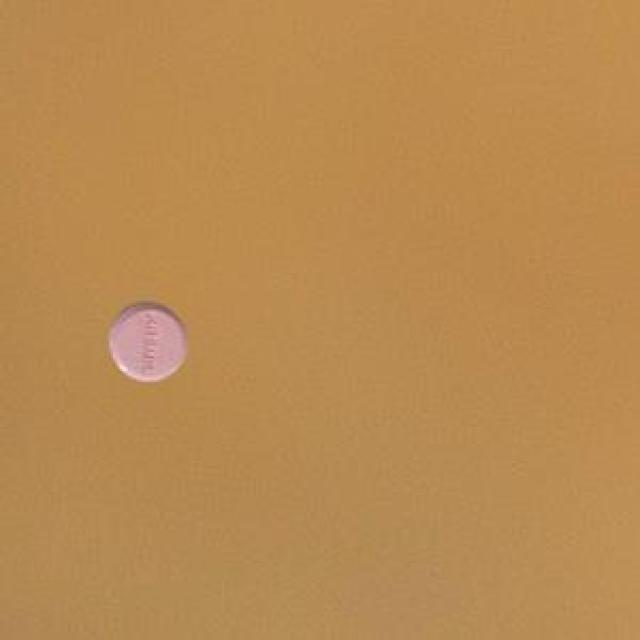Kremil_S: (98, 294, 202, 392)
